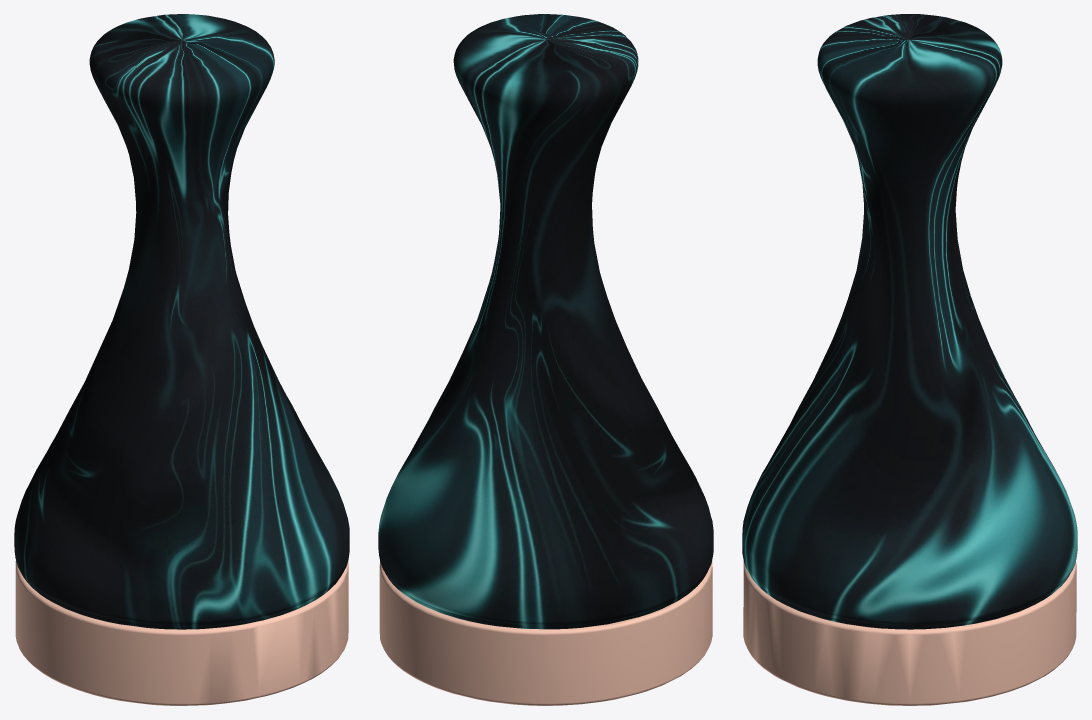
Rendered from bishop-black.glb.
3 renders of one model, left to right at view 1: azimuth 30°, elevation 25°; view 2: azimuth 150°, elevation 25°; view 3: azimuth 270°, elevation 25°, orthographic.
Visible parts, largest first — view 1: strelec_cerna; view 2: strelec_cerna; view 3: strelec_cerna.
Boxes of the visible parts, bbox=[...] form: strelec_cerna: bbox=[14, 14, 349, 705]; strelec_cerna: bbox=[378, 14, 713, 705]; strelec_cerna: bbox=[742, 14, 1077, 705].
Bounding box in the file's own units: 0.6825 × 1.34 × 0.6822.
Materials: 2 (1 with a texture image).
